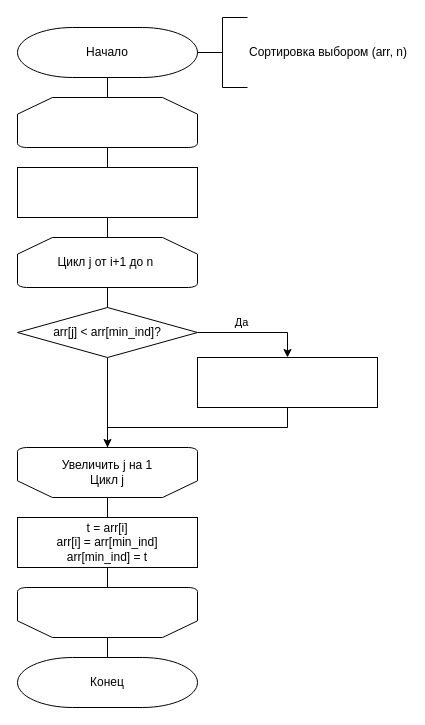
This 425x725 diagram has some shape labels left out. The shapes that lost their labels are listed below. From the top down, each one's centre as x and y in pixels, then its label:
the point at 107,122: Цикл i от 0 до n
the point at 107,192: min_ind = arr[i]
the point at 287,382: min_ind = j
the point at 107,612: Увеличить i на 1 Цикл i
